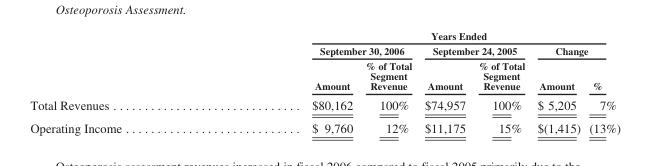table: (29, 29, 619, 134)
table column: (29, 29, 216, 134), (216, 29, 358, 134), (358, 29, 417, 134), (471, 29, 530, 134), (417, 29, 471, 134), (530, 29, 584, 134), (584, 29, 619, 134)
table column header: (29, 29, 619, 94)
table row: (29, 57, 619, 94), (29, 94, 619, 116), (29, 116, 619, 134), (29, 42, 619, 57), (29, 29, 619, 42)
table spanning cell: (216, 29, 619, 42), (216, 42, 417, 57), (417, 42, 530, 57), (530, 42, 619, 57)
